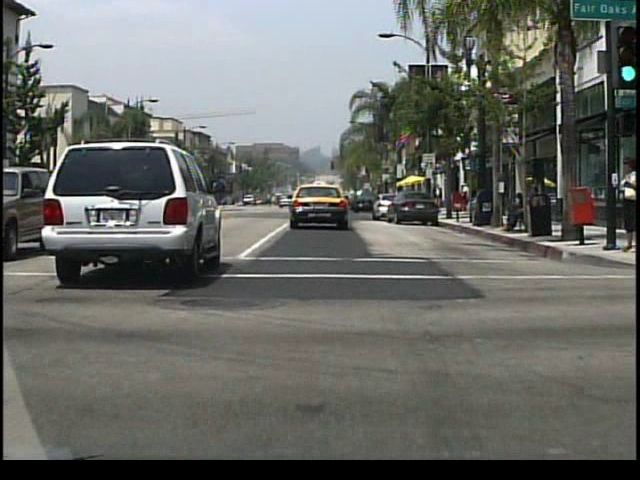person: (503, 191, 530, 232), (527, 178, 541, 231), (432, 184, 444, 212)
